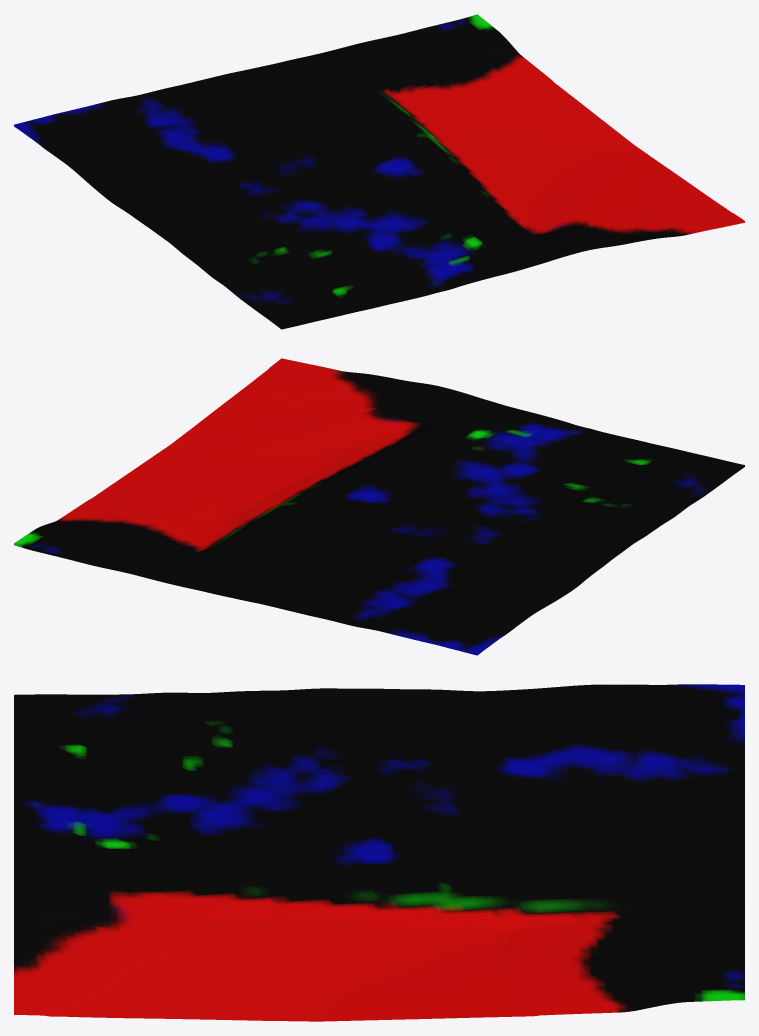
The model's file is coast_0_-800_400.glb.
3 views of the same model, one above another, from view 1: azimuth 30°, elevation 25°; view 2: azimuth 150°, elevation 25°; view 3: azimuth 270°, elevation 25° (orthographic). The views are drawn at different scales.
Parts seen in each view (by area): view 1: terrain; view 2: terrain; view 3: terrain.
Boxes of the visible parts, left/top/right/bottom form: terrain: left=14, top=14, right=744, bottom=329; terrain: left=14, top=358, right=744, bottom=655; terrain: left=14, top=684, right=744, bottom=1021.
Size of the model in its own units: 400 by 17.73 by 400.
